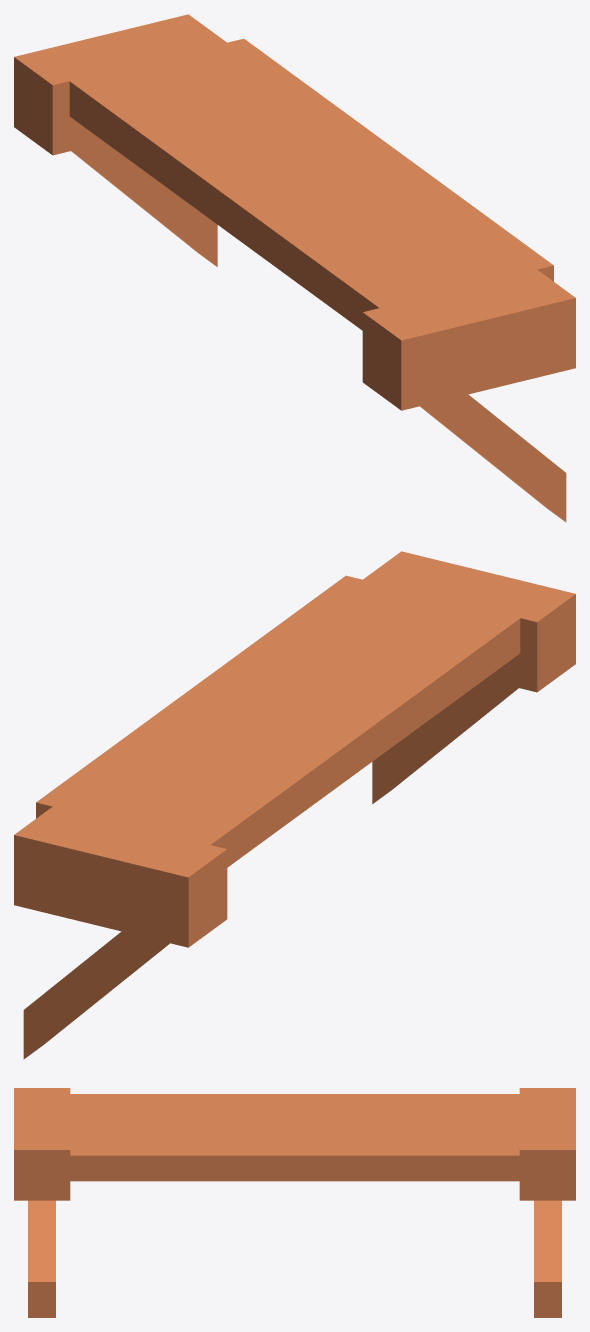
File: overhang.fbx
The picture shows the model from 3 angles, top to bottom: view 1: azimuth 30°, elevation 25°; view 2: azimuth 150°, elevation 25°; view 3: azimuth 270°, elevation 25°; orthographic projection. The views are drawn at different scales.
Visible parts, largest first — view 1: overhang; view 2: overhang; view 3: overhang.
Boxes of the visible parts, x1,y1,x2,y2 form: overhang: (14, 14, 575, 522); overhang: (14, 551, 575, 1059); overhang: (14, 1088, 575, 1317).
Size of the model in its own units: 2.85 by 3.3 by 10.
